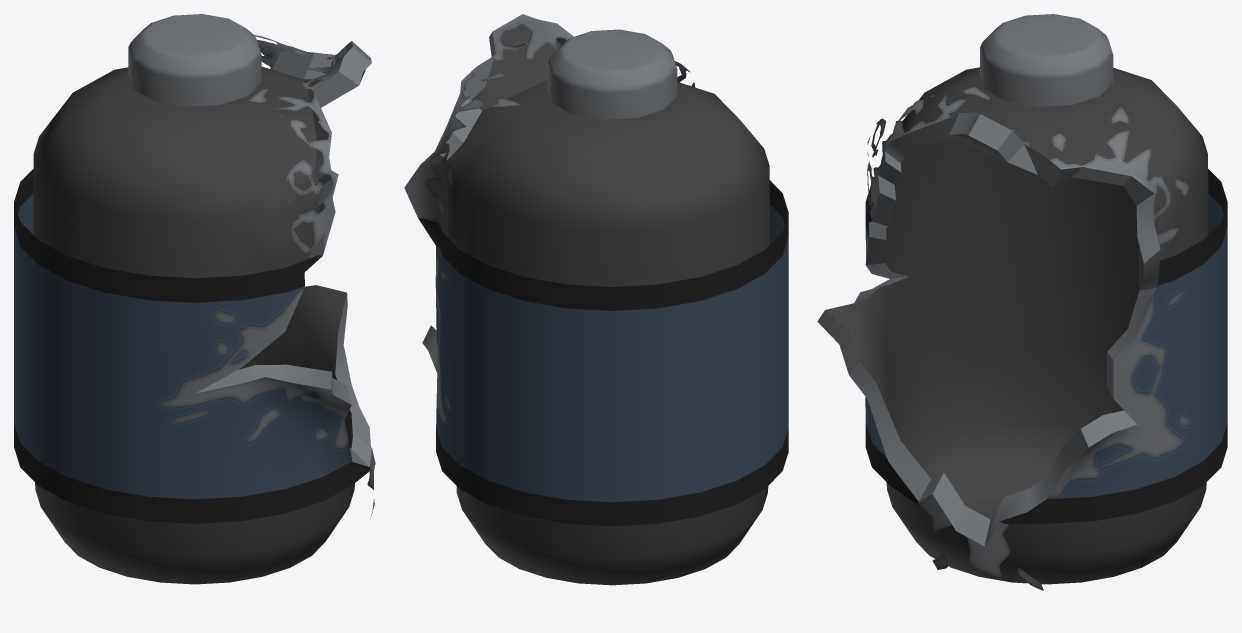
File: env_ruin_tank_02_lod0.fbx
The picture shows the model from 3 angles, left to right: view 1: azimuth 30°, elevation 25°; view 2: azimuth 150°, elevation 25°; view 3: azimuth 270°, elevation 25°; orthographic projection. The views are drawn at different scales.
Parts seen in each view (by area): view 1: env_ruin_tank_02_lod0; view 2: env_ruin_tank_02_lod0; view 3: env_ruin_tank_02_lod0.
Boxes of the visible parts, x1,y1,x2,y2 form: env_ruin_tank_02_lod0: [14, 14, 375, 584]; env_ruin_tank_02_lod0: [404, 14, 788, 585]; env_ruin_tank_02_lod0: [817, 14, 1227, 590].
Bounding box in the file's own units: 36.67 × 56.65 × 39.4.
